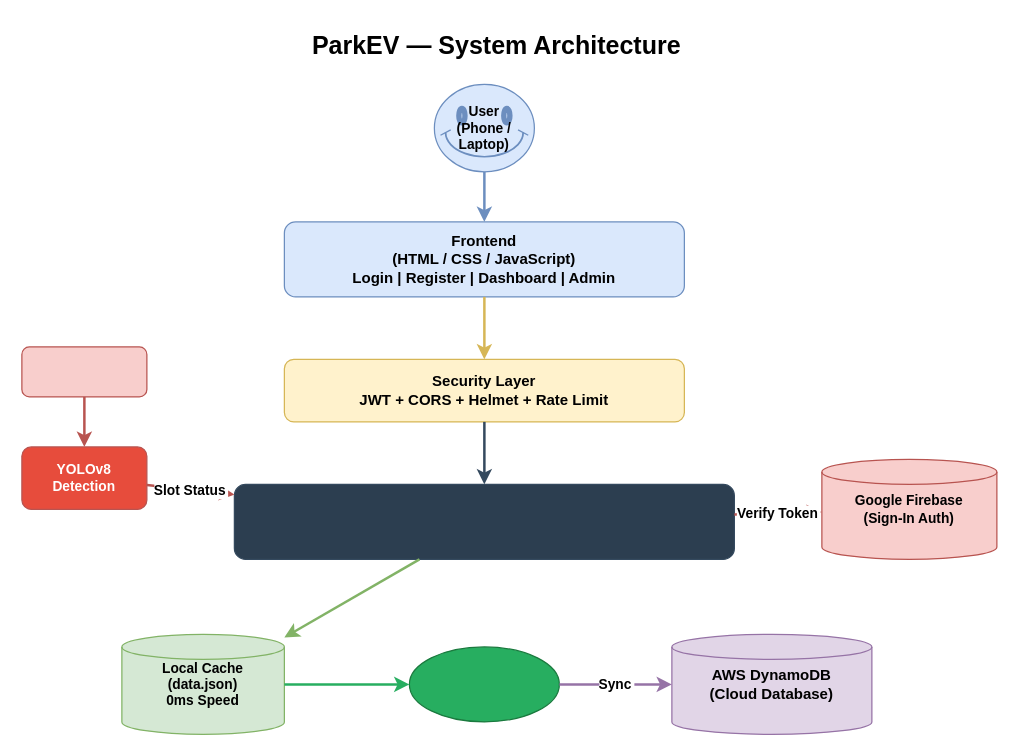
This 1019x756 diagram has some shape labels left out. Each missing label, with the centre of its shape:
CCTV Camera: [84,371]
Cloud Sync Engine (Every 5s): [483,684]
Node.js + Express Backend Auth | Slots | Bookings | Admin | EV Calculator: [483,521]
